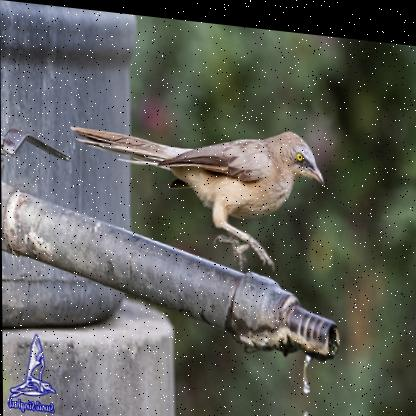Burung: (70, 105, 325, 270)
